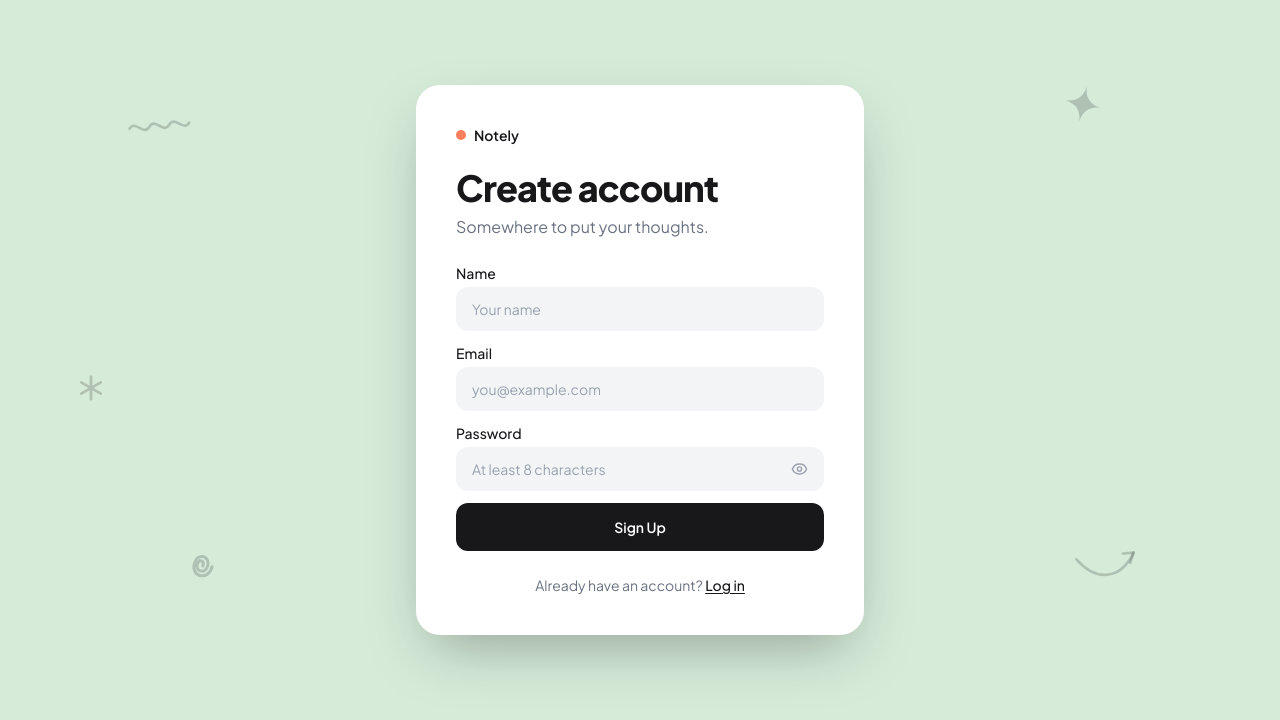
Test: shows the message the backend sent when signup fails
Type "Wasiq" into the field labelled "Name". click: (640, 309)
box: [456,287,824,331]
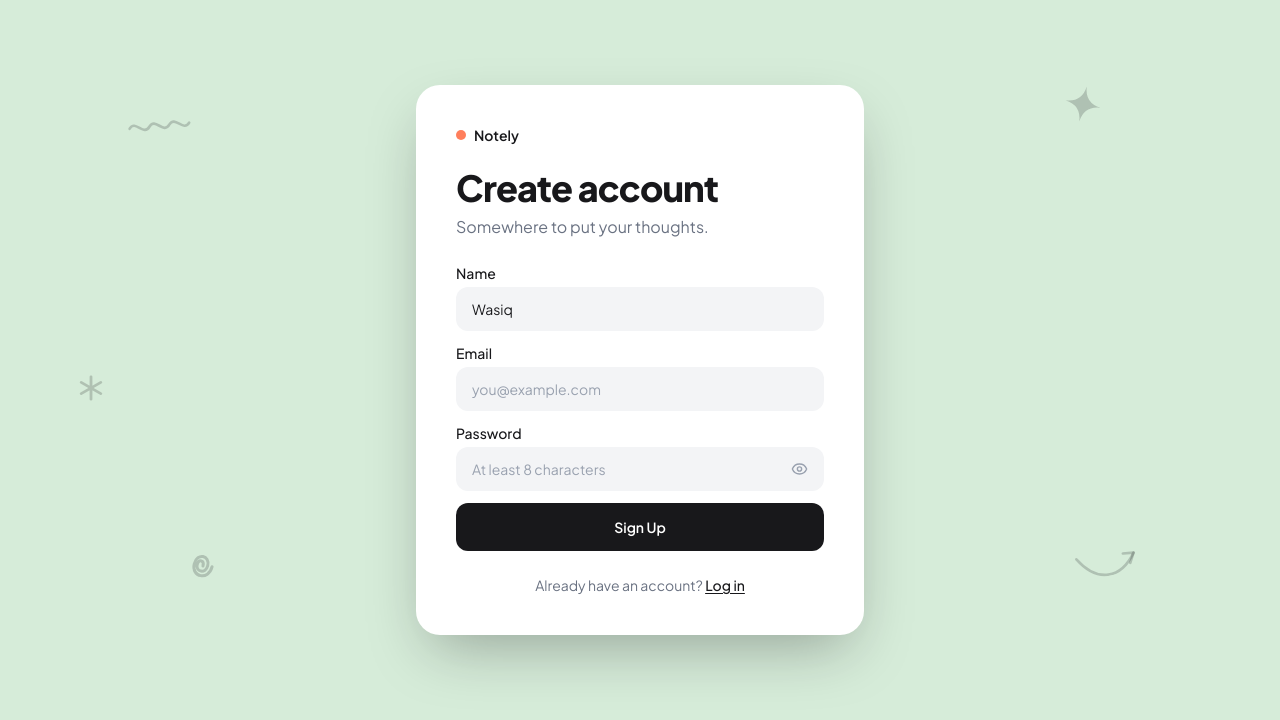
Type "a@b.com" into the field labelled "Email". click: (640, 389)
box: [456,367,824,411]
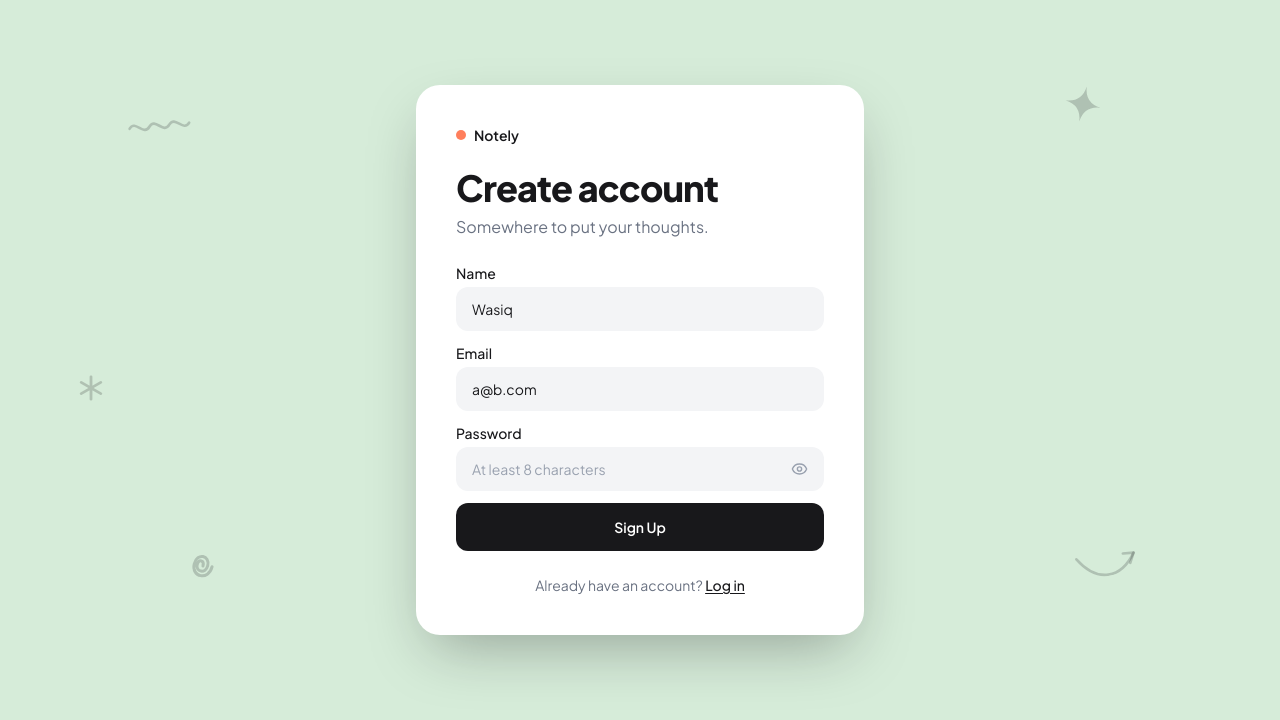
Type "password123" into the password field labelled "Password". click: (640, 469)
box: [456,447,824,491]
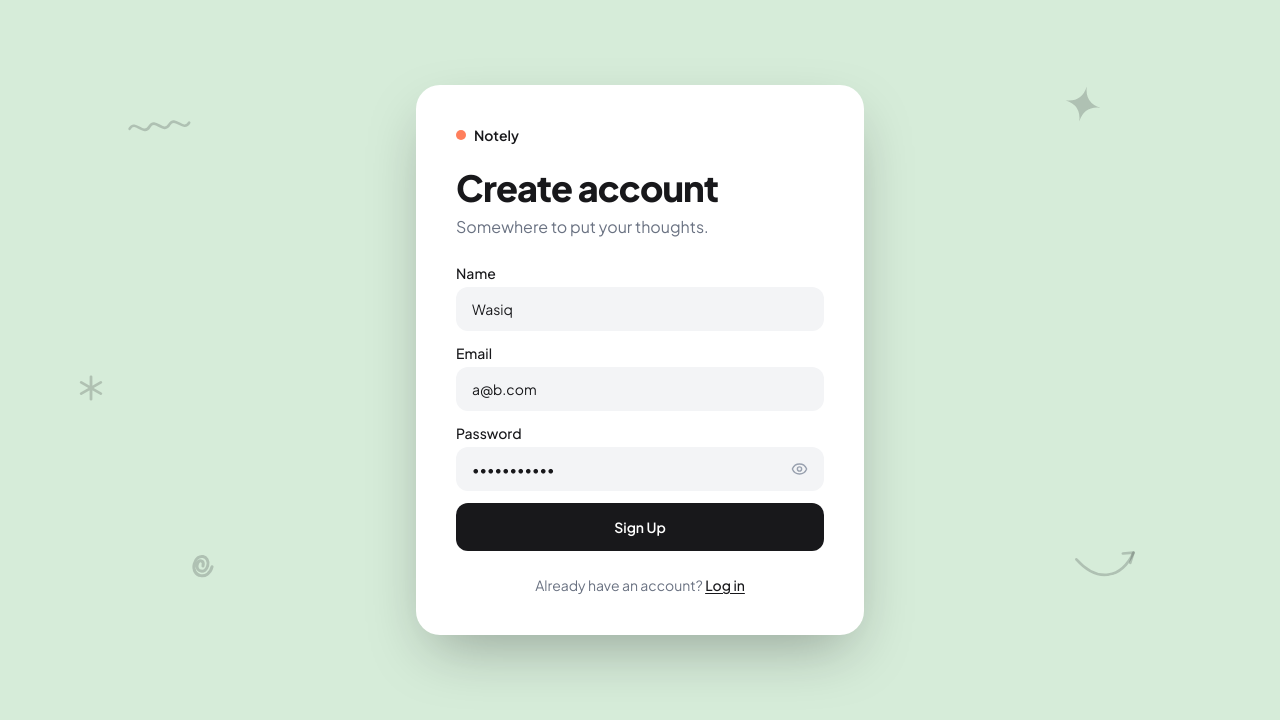
Click the button "Sign Up". click: (640, 527)
box: [456,503,824,551]
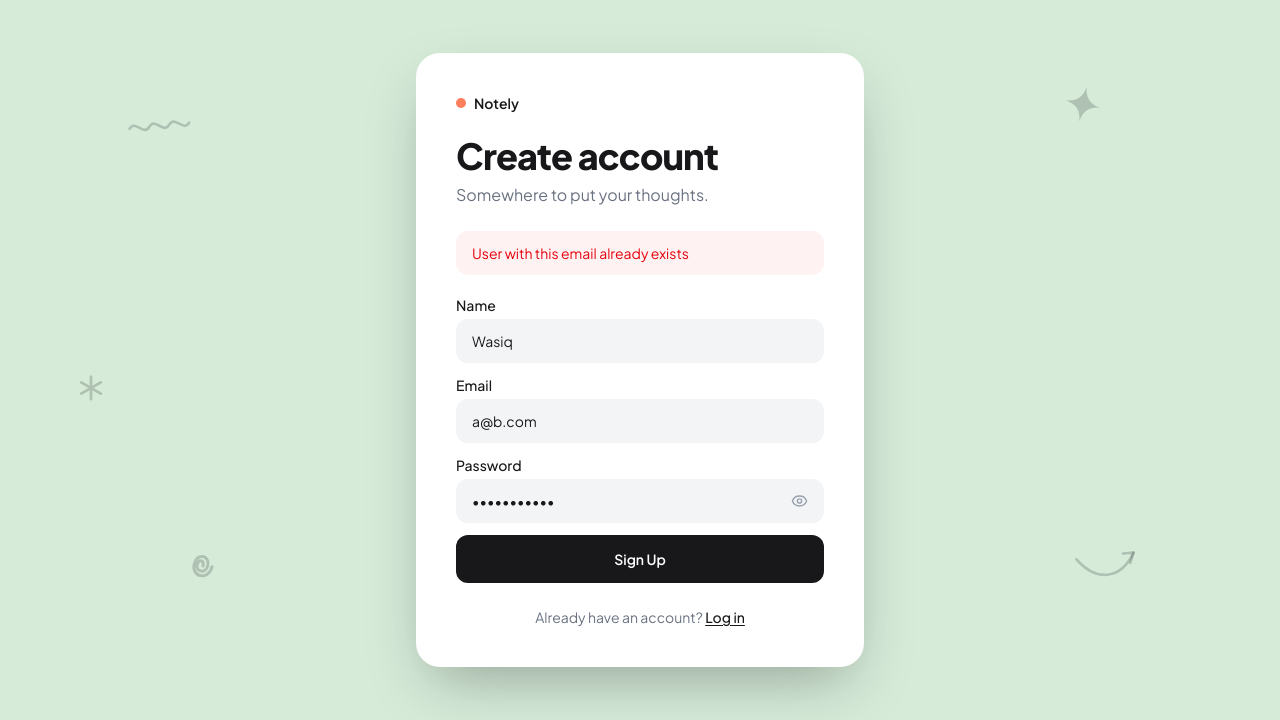
Now the message reads "User with this email already exists", box [472,244,689,262]
